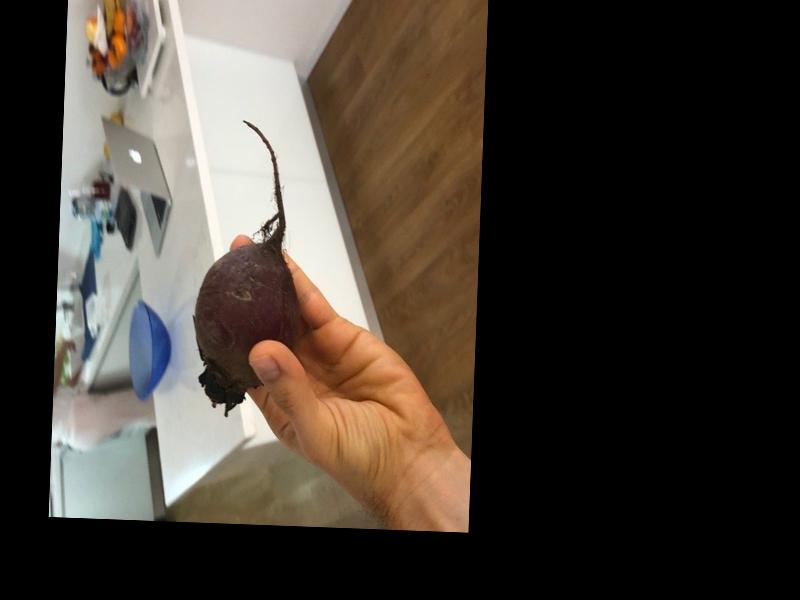Beet: (191, 118, 304, 416)
